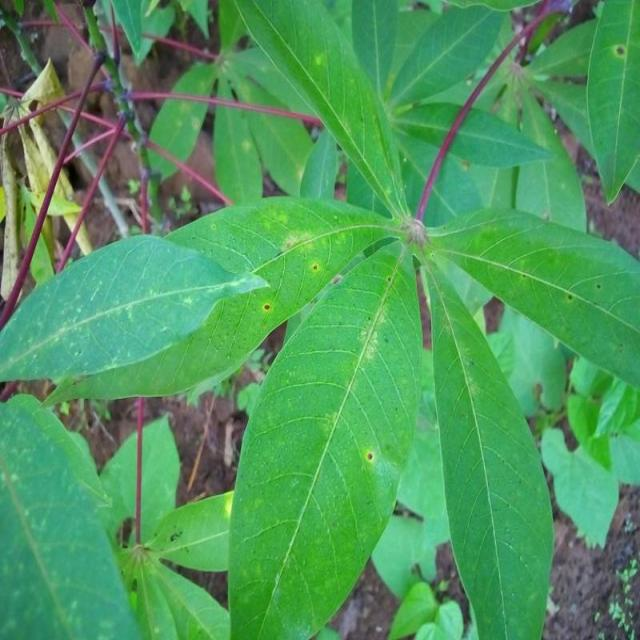cassava leaf: (1, 0, 638, 638), (226, 238, 423, 638), (420, 254, 554, 638), (0, 231, 270, 396), (0, 391, 142, 638)
